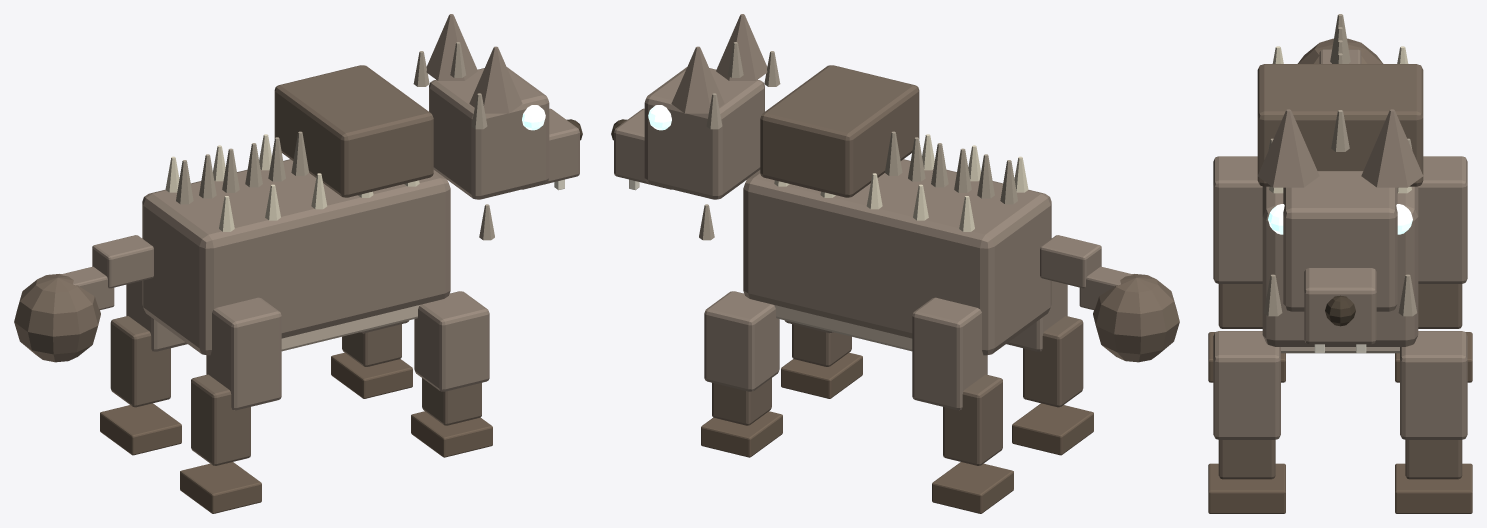
Rendered from wolf_alpha_v2.glb.
3 renders of one model, left to right at view 1: azimuth 30°, elevation 25°; view 2: azimuth 150°, elevation 25°; view 3: azimuth 270°, elevation 25°, orthographic. The views are drawn at different scales.
Parts seen in each view (by area): view 1: Body_Mesh, Body_Hump, Head_Mesh, LegBL_Thigh, LegFL_Upper, Tail_Tip, LegBR_Shin, LegBL_Shin, LegBR_Paw, LegBL_Paw, Tail_Base, LegFL_Paw (+9 smaller); view 2: Body_Mesh, Body_Hump, Head_Mesh, LegBR_Thigh, LegFR_Upper, Tail_Tip, LegBL_Shin, LegBR_Shin, LegBL_Paw, LegBR_Paw, Tail_Base, LegFR_Paw (+9 smaller); view 3: Body_Hump, Head_Mesh, LegFL_Upper, LegFR_Upper, Body_Mesh, LegBL_Thigh, LegBR_Thigh, Snout, LegFL_Paw, LegFR_Paw, Ear_L, Ear_R (+15 smaller).
Boxes of the visible parts, <box> form: Body_Mesh: <box>142,159,450,355</box>; Body_Hump: <box>274,65,433,197</box>; Head_Mesh: <box>429,67,549,199</box>; LegBL_Thigh: <box>206,297,281,410</box>; LegFL_Upper: <box>414,291,489,391</box>; Tail_Tip: <box>14,274,100,362</box>; LegBR_Shin: <box>110,316,170,407</box>; LegBL_Shin: <box>191,374,250,465</box>; LegBR_Paw: <box>100,403,181,455</box>; LegBL_Paw: <box>180,462,261,513</box>; Tail_Base: <box>92,235,153,288</box>; LegFL_Paw: <box>411,411,492,457</box>; Body_Mesh: <box>743,159,1051,355</box>; Body_Hump: <box>760,65,919,197</box>; Head_Mesh: <box>644,67,764,199</box>; LegBR_Thigh: <box>912,297,987,410</box>; LegFR_Upper: <box>704,291,779,391</box>; Tail_Tip: <box>1093,274,1179,362</box>; LegBL_Shin: <box>1023,316,1083,407</box>; LegBR_Shin: <box>943,374,1002,465</box>; LegBL_Paw: <box>1012,403,1093,455</box>; LegBR_Paw: <box>932,462,1013,513</box>; Tail_Base: <box>1040,235,1101,288</box>; LegFR_Paw: <box>701,411,782,457</box>; Body_Hump: <box>1257,64,1423,186</box>; Head_Mesh: <box>1283,171,1397,311</box>; LegFL_Upper: <box>1213,331,1280,439</box>; LegFR_Upper: <box>1400,331,1467,439</box>; Body_Mesh: <box>1262,186,1418,346</box>; LegBL_Thigh: <box>1213,156,1262,283</box>; LegBR_Thigh: <box>1418,156,1467,283</box>; Snout: <box>1304,268,1376,344</box>; LegFL_Paw: <box>1208,463,1285,513</box>; LegFR_Paw: <box>1395,463,1472,513</box>; Ear_L: <box>1257,109,1319,187</box>; Ear_R: <box>1361,109,1423,187</box>.
Size of the model in its own units: 1.75 by 1.09 by 0.612.
